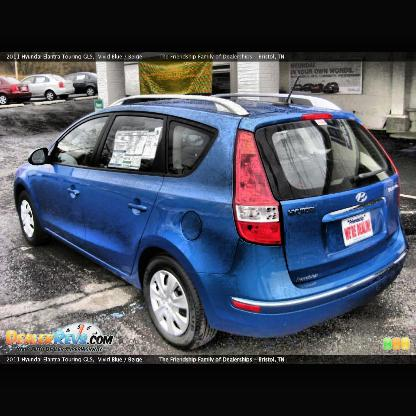Hyundai Elantra Touring Hatchback 2012: (15, 93, 408, 354)
